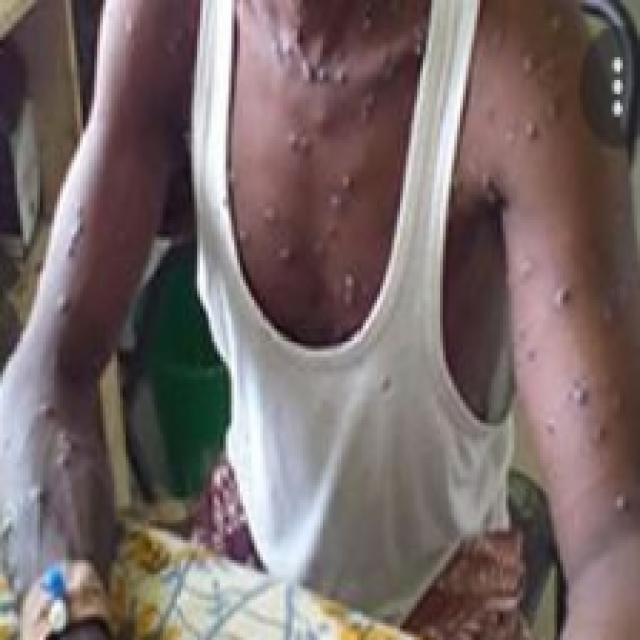Eczema: (473, 2, 631, 538), (245, 0, 411, 318), (1, 203, 128, 582)
